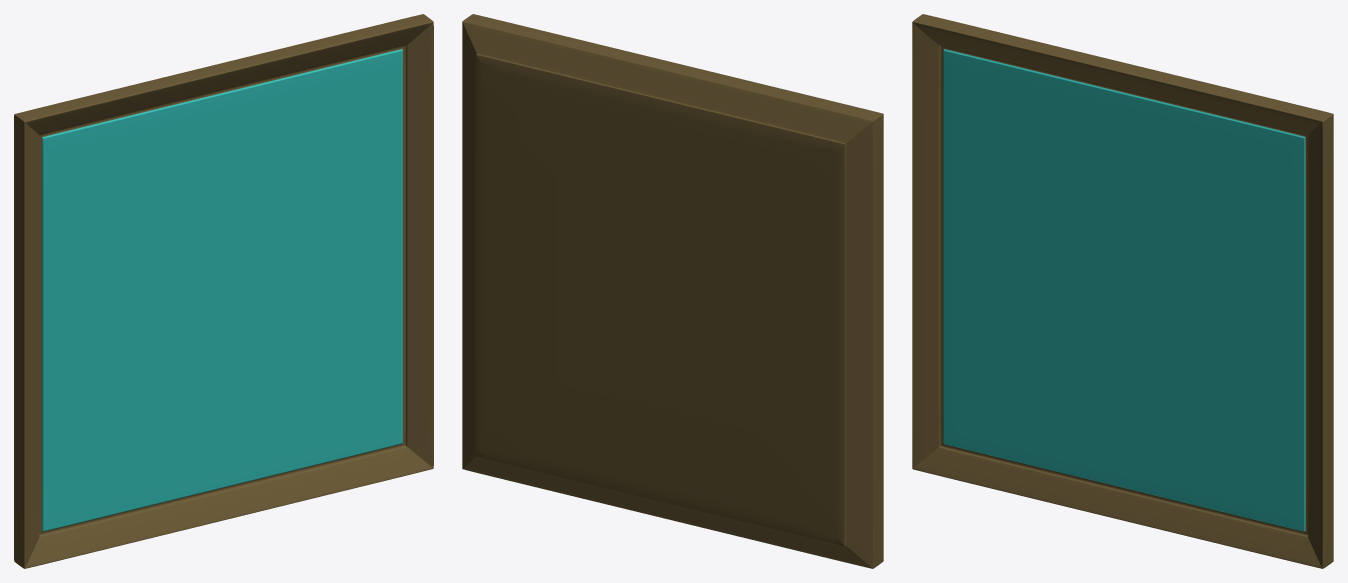
File: Cuadro1_high.fbx
3 renders of one model, left to right at view 1: azimuth 30°, elevation 25°; view 2: azimuth 150°, elevation 25°; view 3: azimuth 330°, elevation 25°, orthographic.
Visible parts, largest first — view 1: Cuadro1_high; view 2: Cuadro1_high; view 3: Cuadro1_high.
Boxes of the visible parts, <box> form: Cuadro1_high: <box>14,14,433,568</box>; Cuadro1_high: <box>462,14,883,568</box>; Cuadro1_high: <box>912,14,1333,568</box>.
Bounding box in the file's own units: 4.74 × 4.94 × 0.3791.
